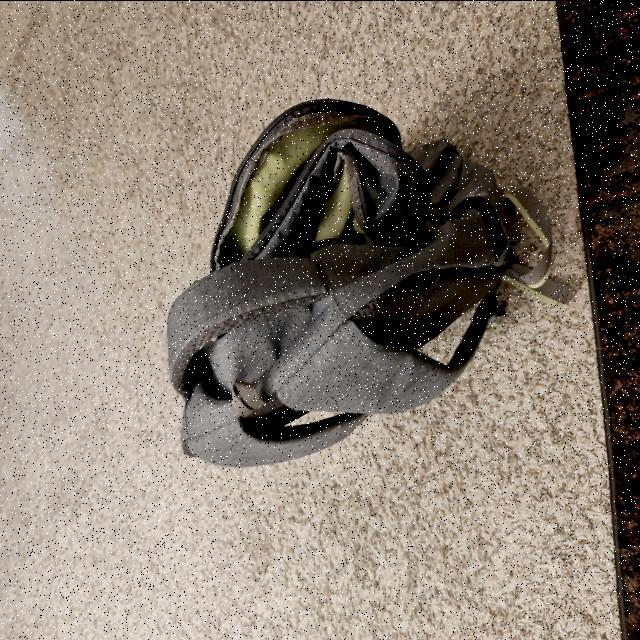bag: (174, 88, 510, 458)
